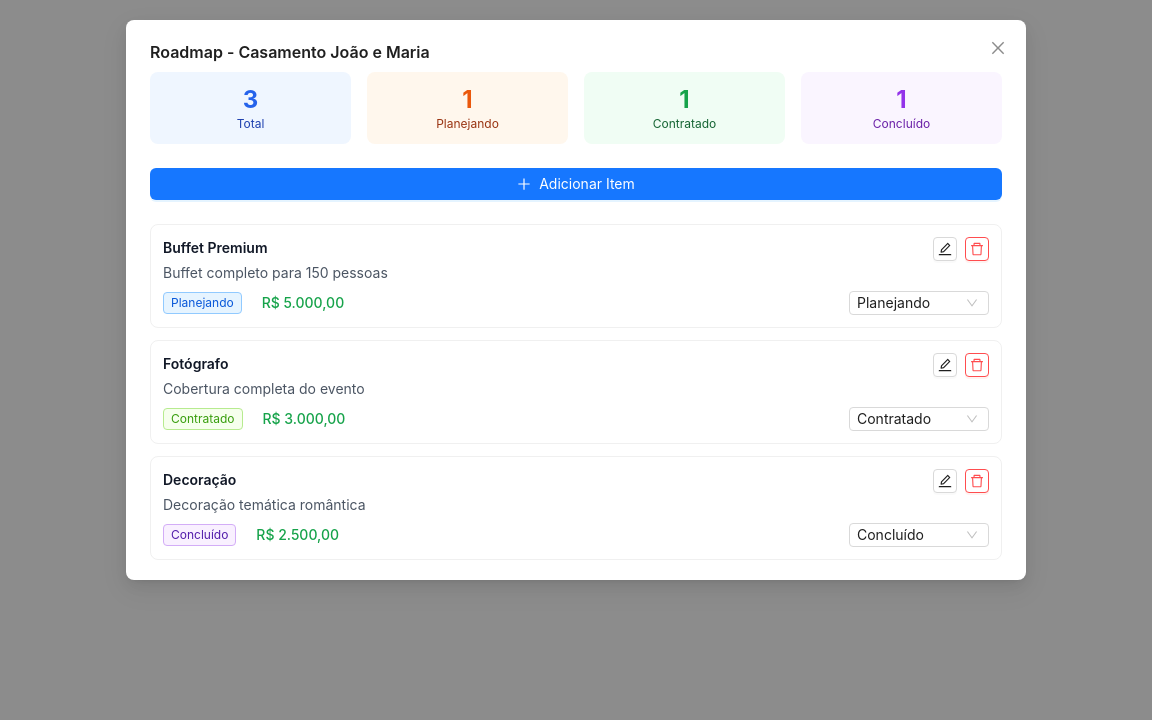
Test: RoadmapModal › should open add modal when "Adicionar Item" button is clicked
This screenshot has width=1152, height=720.
Expected: the text "Adicionar Item" is shown, [539,173,635,195]
Click the button "Adicionar Item" at (576, 184), box [150,168,1002,200]
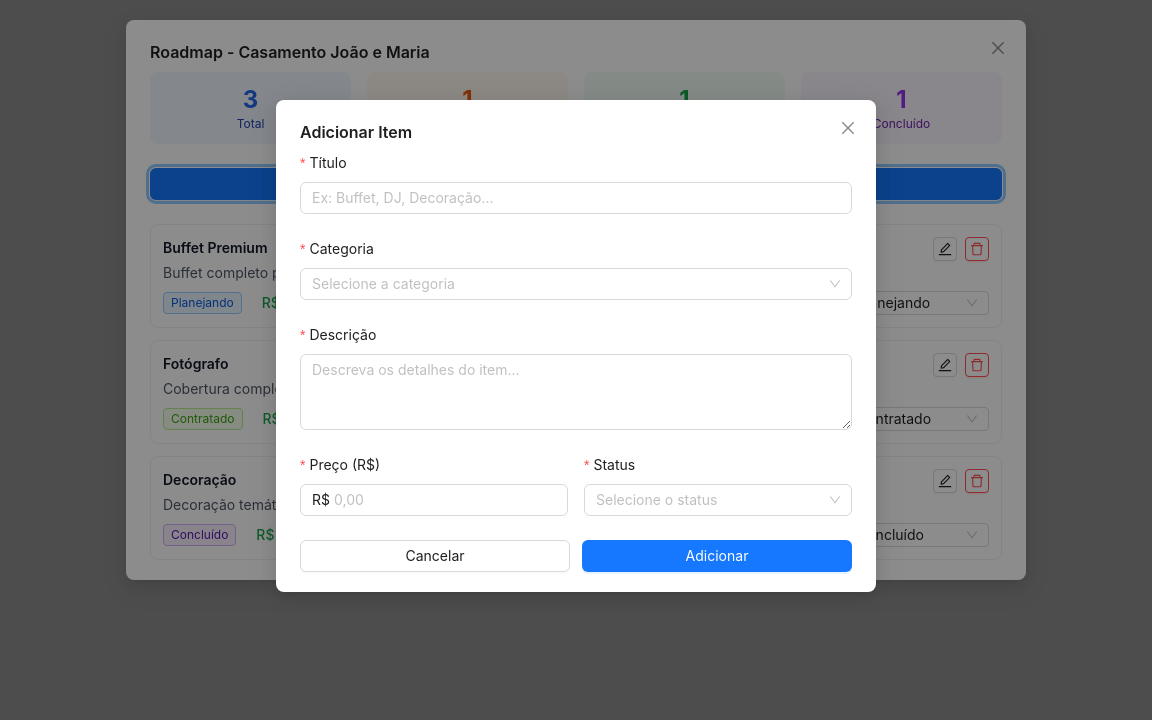
Now the text "Título" is shown, box [300,152,361,174]
Now the field with placeholder "Ex: Buffet, DJ, Decoração..." is shown, box [300,182,852,214]
